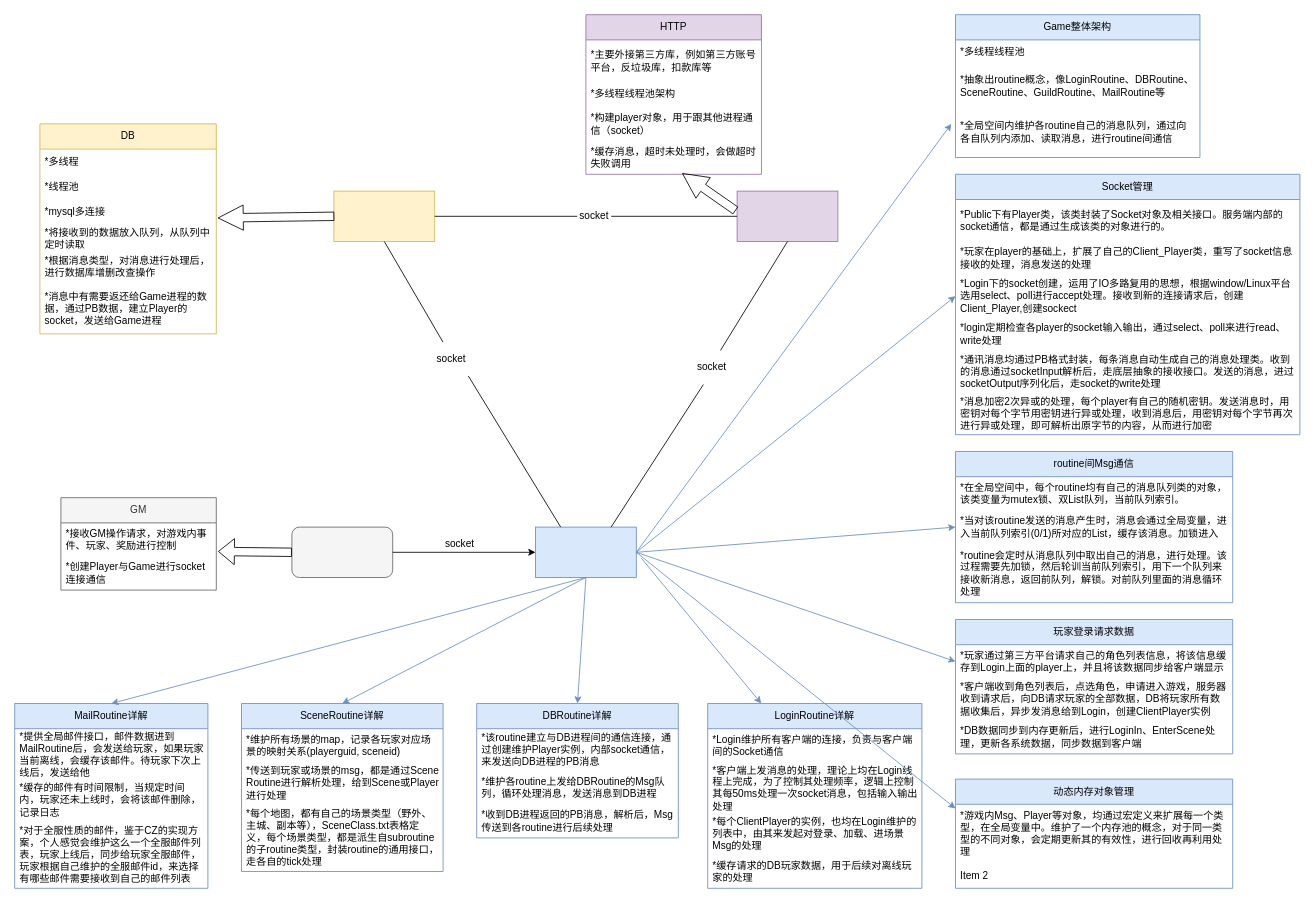
Image size: 1315x903. Some labels were removed from this diagram. Here are the shapes that lost their labels. From the top down, the centre of each, then its label:
the point at 384,216: DBServ
the point at 787,216: HTTPServ
the point at 342,552: GMServ
the point at 585,552: GameServ
